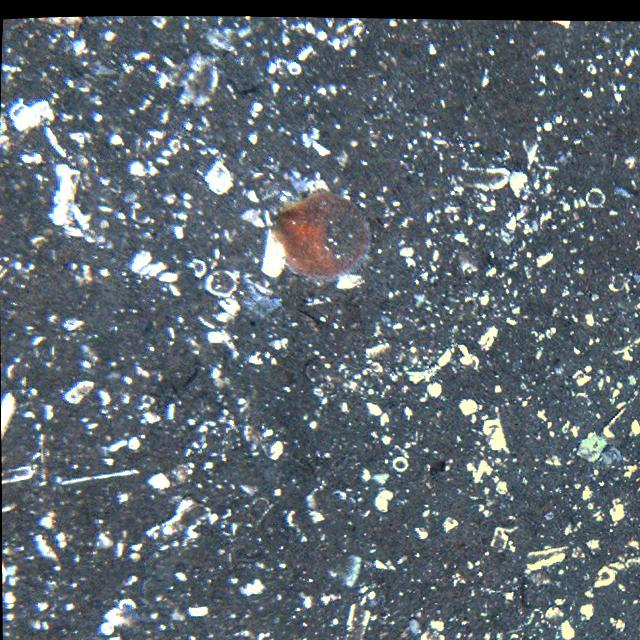scallop: (269, 191, 370, 276)
